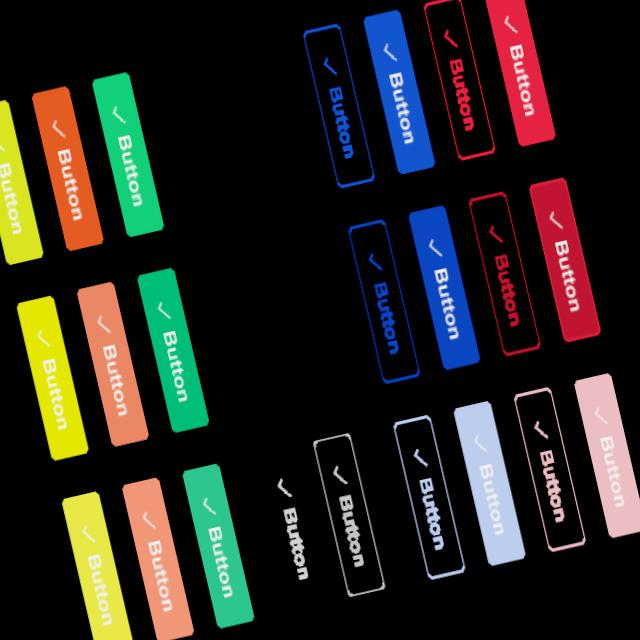QLabel: (504, 38, 540, 120), (474, 460, 510, 539), (324, 80, 358, 162), (369, 278, 404, 356), (444, 53, 478, 133), (244, 100, 278, 180), (278, 503, 312, 583), (334, 491, 368, 570), (384, 68, 418, 146), (415, 472, 449, 550), (235, 309, 269, 387), (113, 132, 147, 210), (82, 550, 116, 628), (189, 112, 222, 192), (158, 328, 191, 406), (38, 356, 71, 434), (144, 535, 176, 615), (53, 146, 86, 223), (290, 296, 322, 374), (98, 340, 130, 418), (550, 238, 582, 315), (430, 266, 462, 342), (204, 522, 235, 600), (596, 435, 628, 510), (536, 447, 568, 522), (492, 252, 522, 326), (0, 159, 25, 237)
VBtn: (306, 426, 389, 602), (261, 232, 344, 406), (25, 81, 108, 255), (86, 68, 168, 240), (218, 37, 298, 211), (358, 6, 438, 178), (298, 19, 377, 190), (524, 174, 602, 346), (464, 189, 542, 360), (255, 440, 328, 619), (72, 277, 148, 448), (13, 293, 89, 461), (134, 264, 208, 436), (346, 217, 421, 385), (406, 202, 480, 371), (118, 476, 194, 640), (511, 388, 586, 553), (390, 418, 465, 580), (452, 402, 526, 566), (210, 246, 281, 416), (478, 0, 558, 150), (421, 0, 495, 161), (166, 53, 236, 222), (180, 463, 252, 624), (571, 371, 640, 538), (59, 491, 134, 640), (0, 96, 46, 268)
VIcon: (181, 80, 203, 112), (588, 399, 610, 430), (328, 459, 349, 488), (378, 35, 398, 65), (423, 232, 443, 262), (284, 264, 304, 294), (317, 50, 338, 78), (544, 205, 564, 234), (238, 67, 258, 96), (228, 278, 248, 307), (499, 9, 520, 36), (468, 429, 489, 456), (408, 443, 429, 470), (92, 310, 112, 338), (197, 493, 218, 519), (137, 507, 158, 533), (438, 24, 458, 51), (484, 220, 504, 247), (152, 296, 172, 323), (107, 100, 126, 128), (77, 519, 96, 547), (363, 249, 384, 274), (47, 116, 66, 142), (32, 326, 51, 352), (274, 474, 292, 500), (530, 416, 548, 441), (0, 129, 4, 155)
